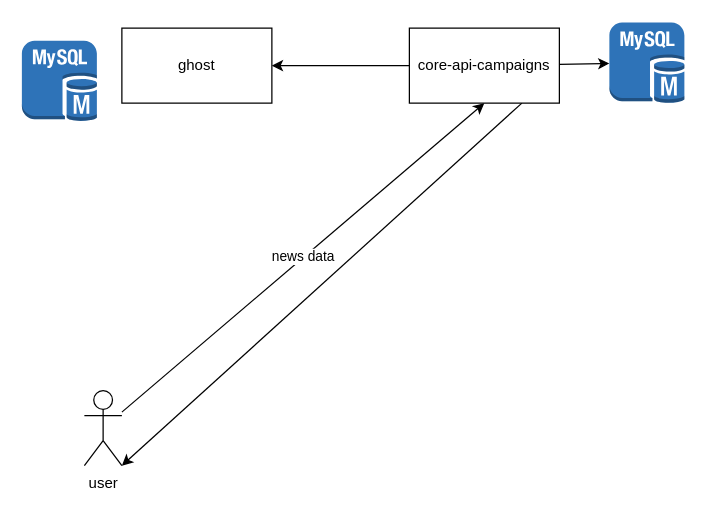
Image size: 715x513. Some labels were removed from this diagram. Each missing label, with the box of its shape:
db campaigns: (608, 21, 684, 103)
db ghost: (21, 39, 97, 121)
